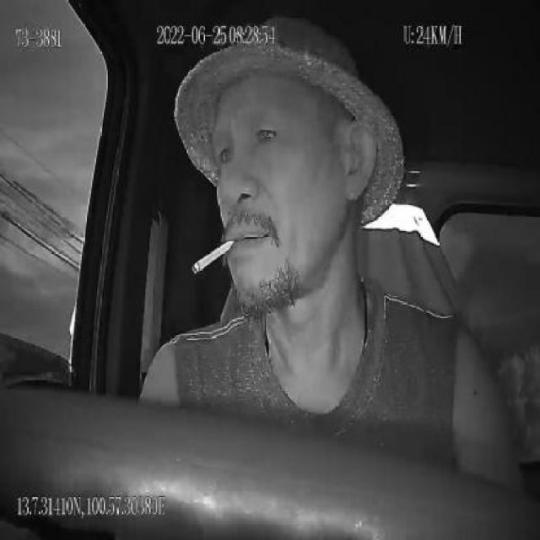smoking: (192, 235, 237, 273)
